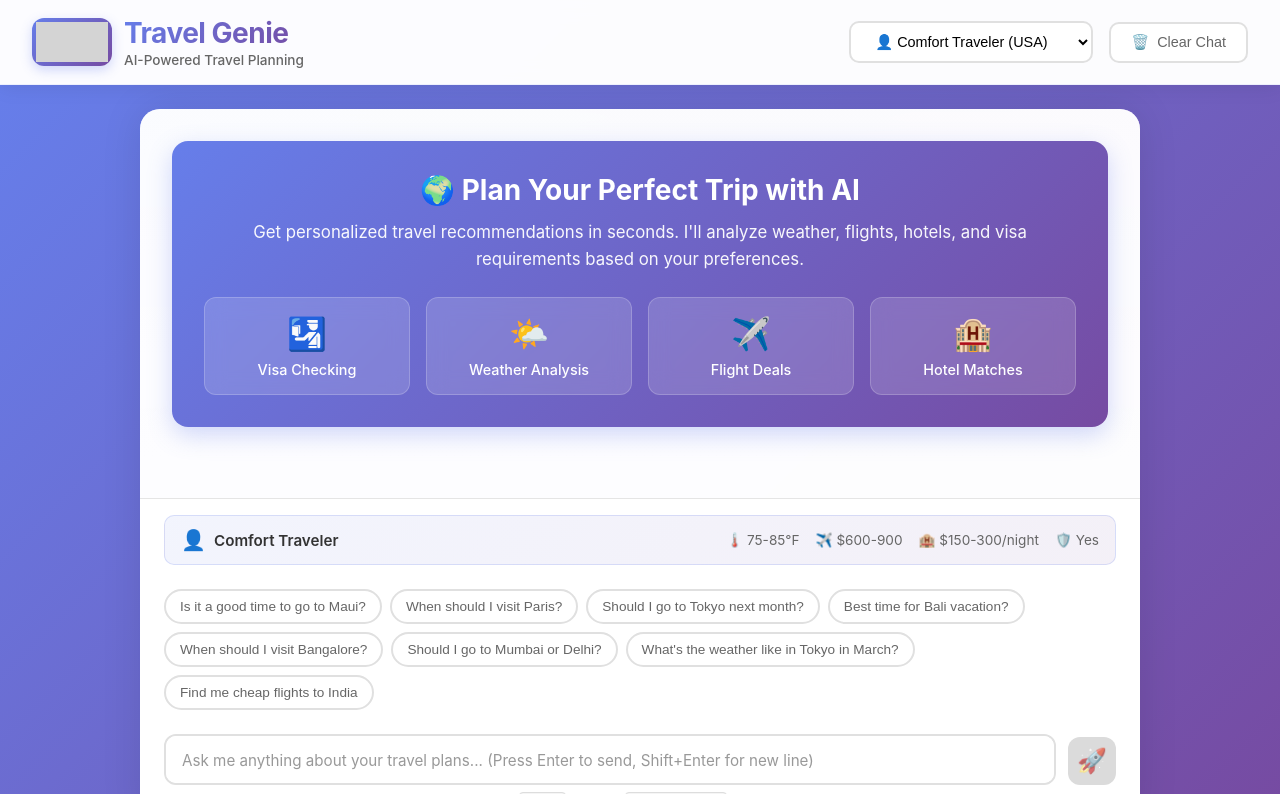
Test case: App Component › Clear Chat Functionality › clears all messages except welcome banner
Note: Send a message
Replace the text in the text box with placeholder "Ask me anything about your travel plans" with "Test query" at (610, 760), box x1=164 y1=734 x2=1056 y2=785
(page scrolled)
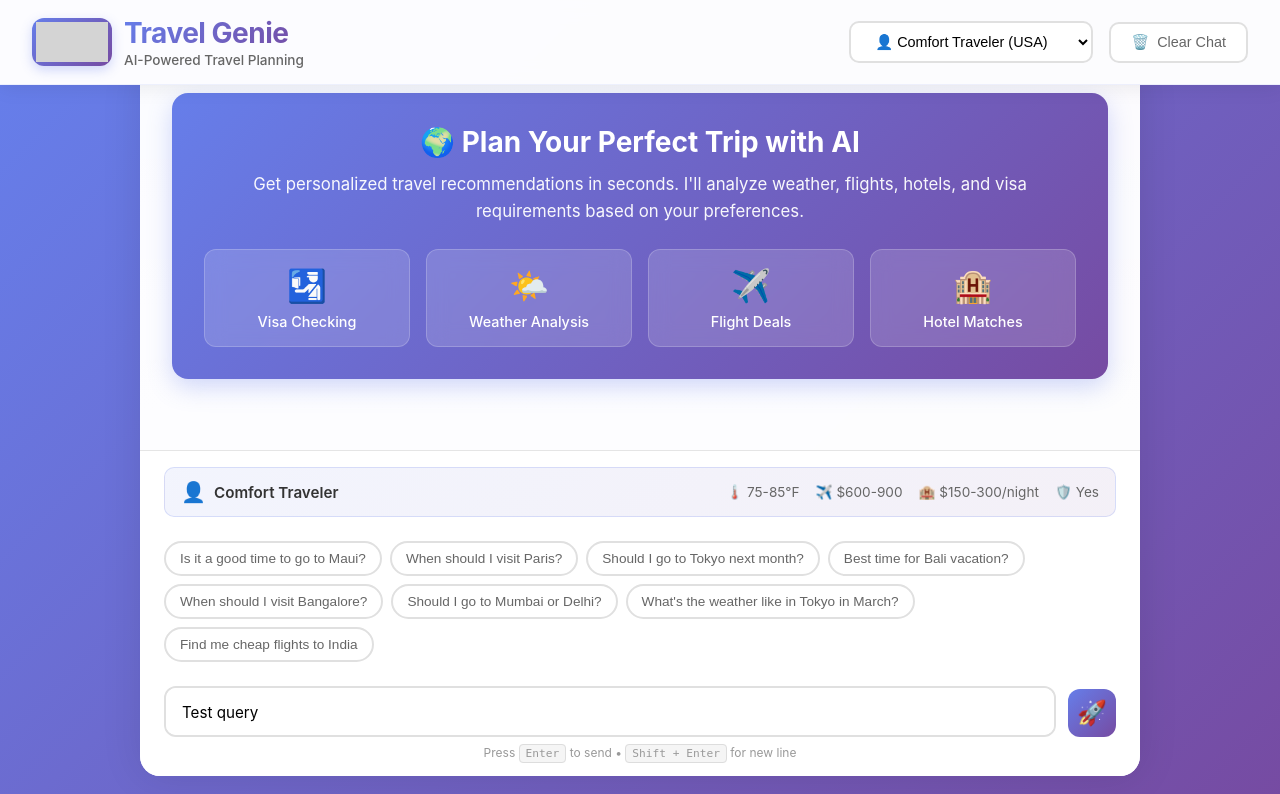
Submit the form with placeholder "Ask me anything about your travel plans", box x1=164 y1=686 x2=1116 y2=760
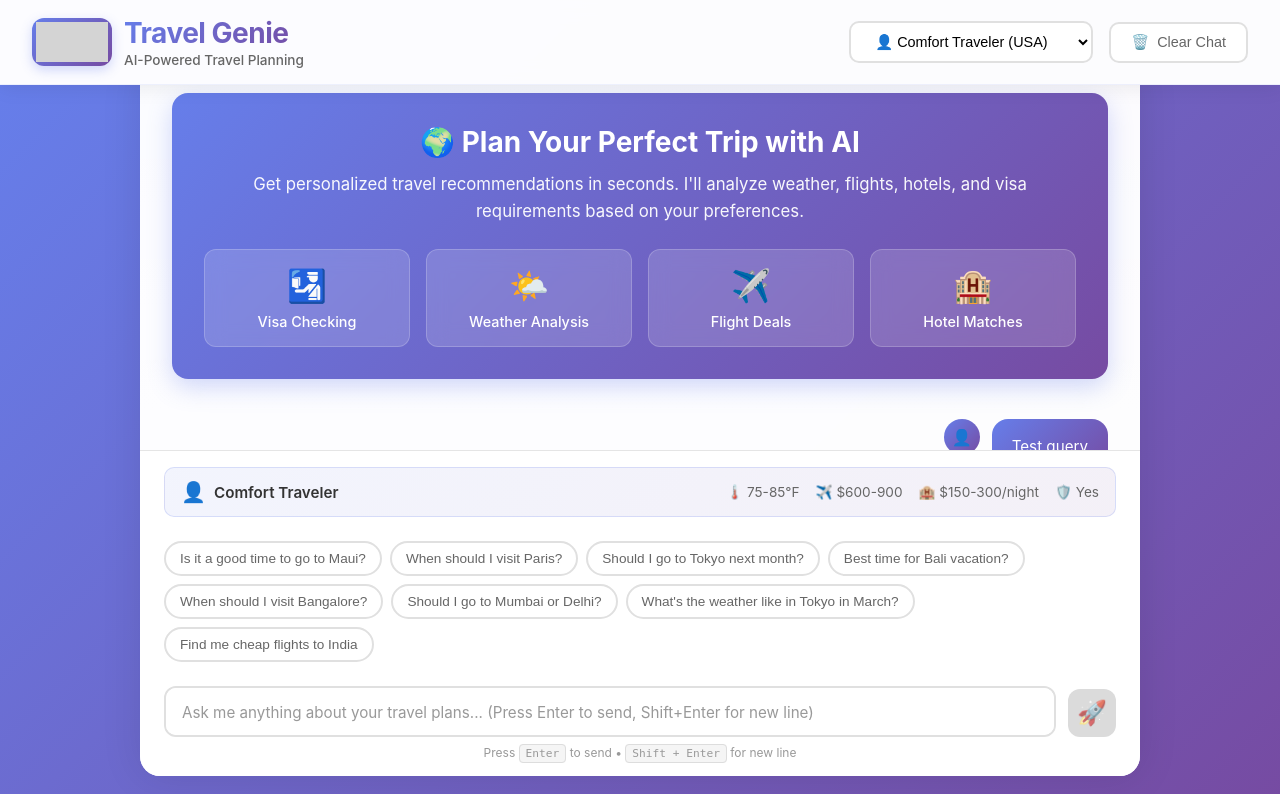
Check: the text "Test query" is shown, box x1=1012 y1=437 x2=1088 y2=450
Note: Clear chat
Click the button "🗑️ Clear Chat" at (1179, 42), box x1=1109 y1=22 x2=1248 y2=62
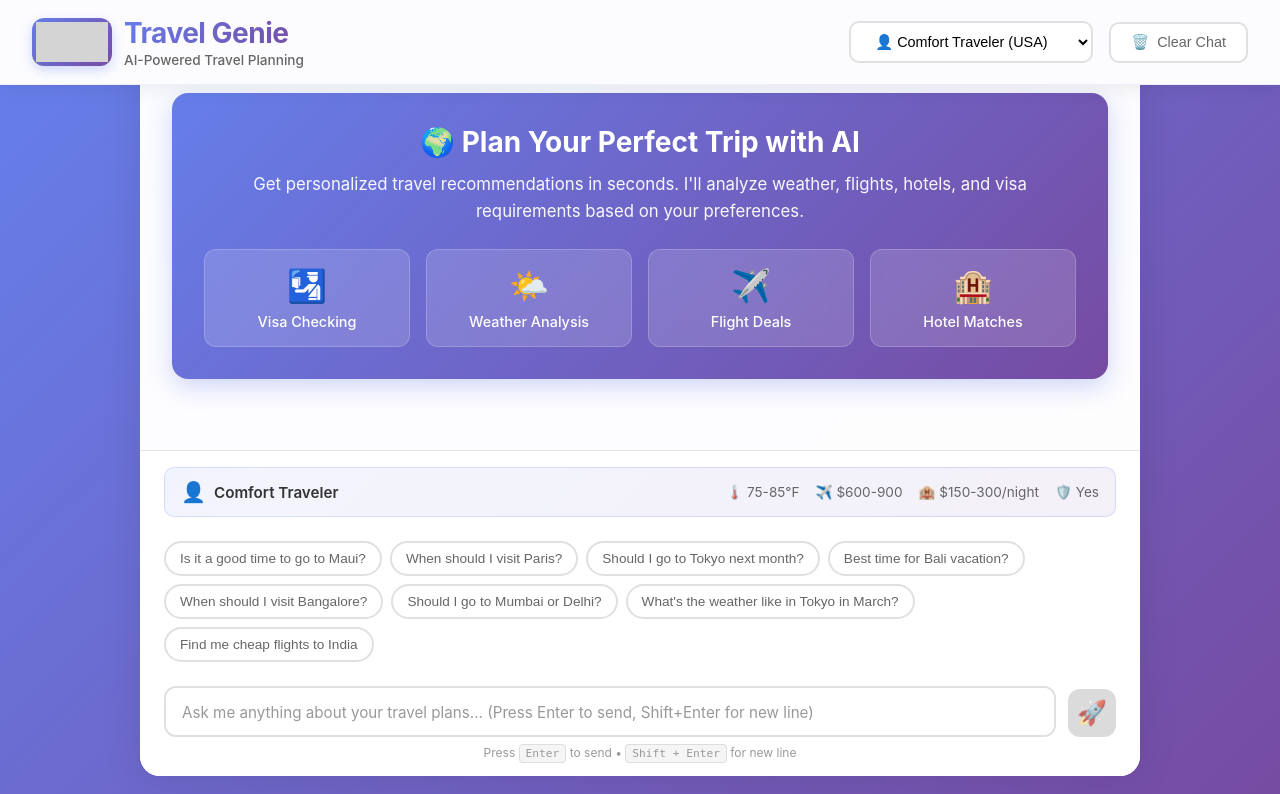
Check: the heading "🌍 Plan Your Perfect Trip with AI" is shown, box x1=420 y1=125 x2=860 y2=159
Check: the text "Test query" is gone
